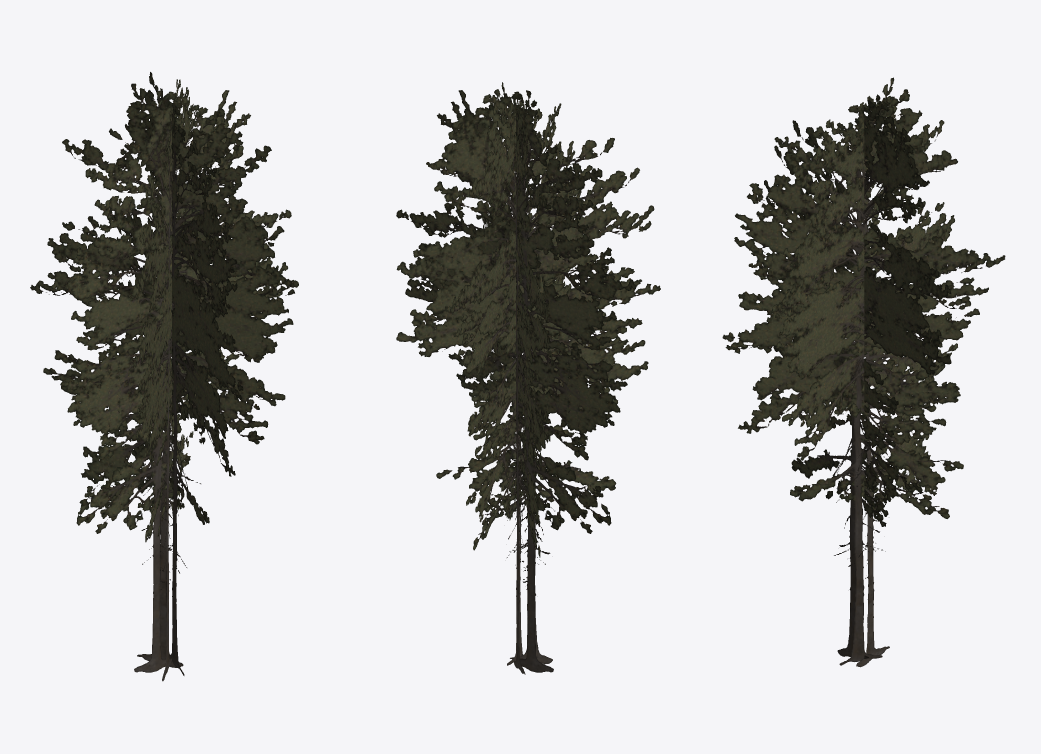
File: tree_pine_c.glb
3 renders of one model, left to right at view 1: azimuth 30°, elevation 25°; view 2: azimuth 150°, elevation 25°; view 3: azimuth 270°, elevation 25°, orthographic.
Visible parts, largest first — view 1: tree_pine_c; view 2: tree_pine_c; view 3: tree_pine_c.
Part boxes in pixels (x1,y1,x2,y2): tree_pine_c: [30, 72, 298, 681]; tree_pine_c: [396, 82, 660, 674]; tree_pine_c: [722, 77, 1005, 667].
Size of the model in its own units: 8.95 by 17.89 by 8.95.
1 material, 1 textured.
